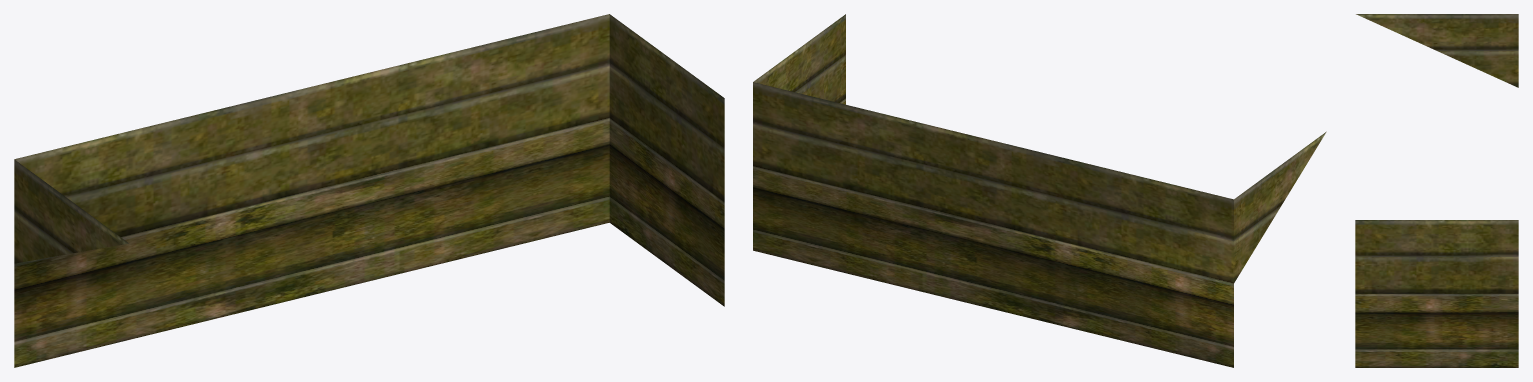
Rendered from OVERHILL_A_01_OBJECT110.fbx.
3 views of the same model, side by side, from view 1: azimuth 30°, elevation 25°; view 2: azimuth 150°, elevation 25°; view 3: azimuth 270°, elevation 25° (orthographic). The views are drawn at different scales.
Parts seen in each view (by area): view 1: OVERHILL_A_01_OBJECT110; view 2: OVERHILL_A_01_OBJECT110; view 3: OVERHILL_A_01_OBJECT110.
Part boxes in pixels (<box>): OVERHILL_A_01_OBJECT110: <box>14,14,724,367</box>; OVERHILL_A_01_OBJECT110: <box>753,14,1326,367</box>; OVERHILL_A_01_OBJECT110: <box>1355,14,1518,367</box>.
Bounding box in the file's own units: 29852 × 10000 × 10000.
2 materials, 2 textured.
